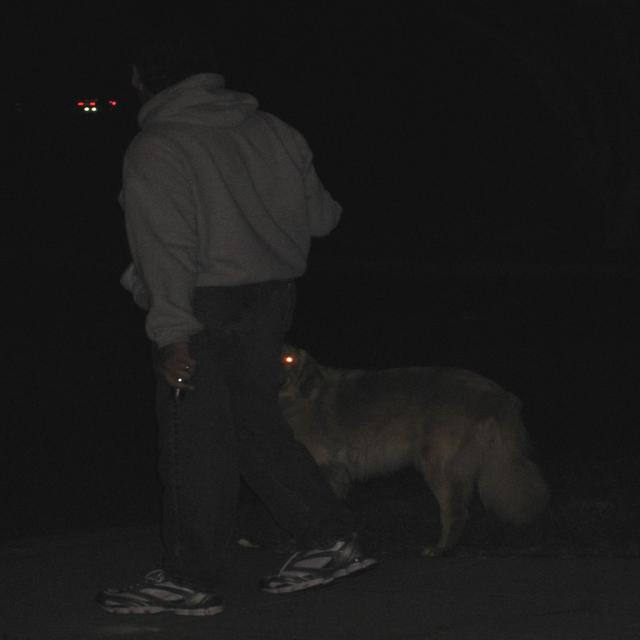People: (84, 33, 324, 619)
dog: (317, 330, 551, 564)
